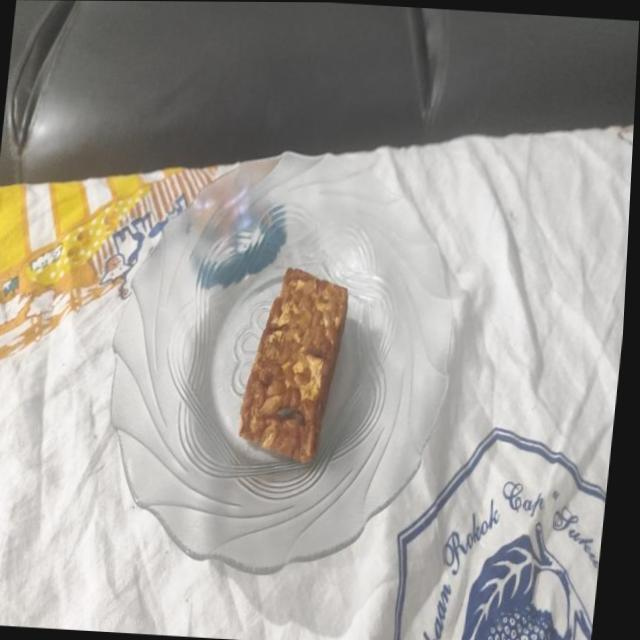tempe_goreng: (240, 268, 348, 462)
